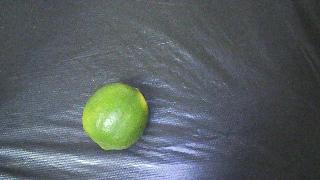LOCAL: (82, 83, 149, 150)
